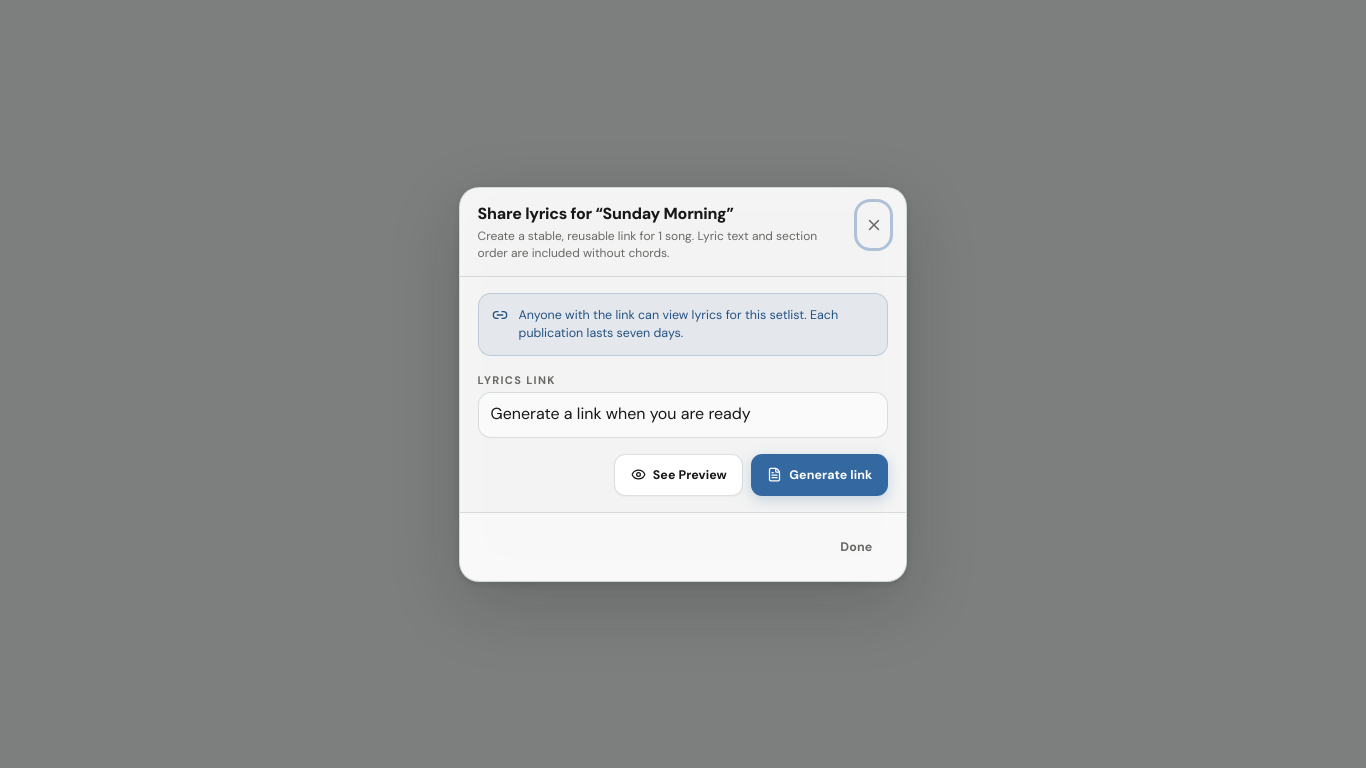
Scenario: ShareLyricsModal › renders See Preview button and opens preview modal with (Preview) header without generating a link
The width and height of the screenshot is (1366, 768).
// Click See Preview
Click the button "See Preview" at x=679, y=474, box [614,453,743,496]
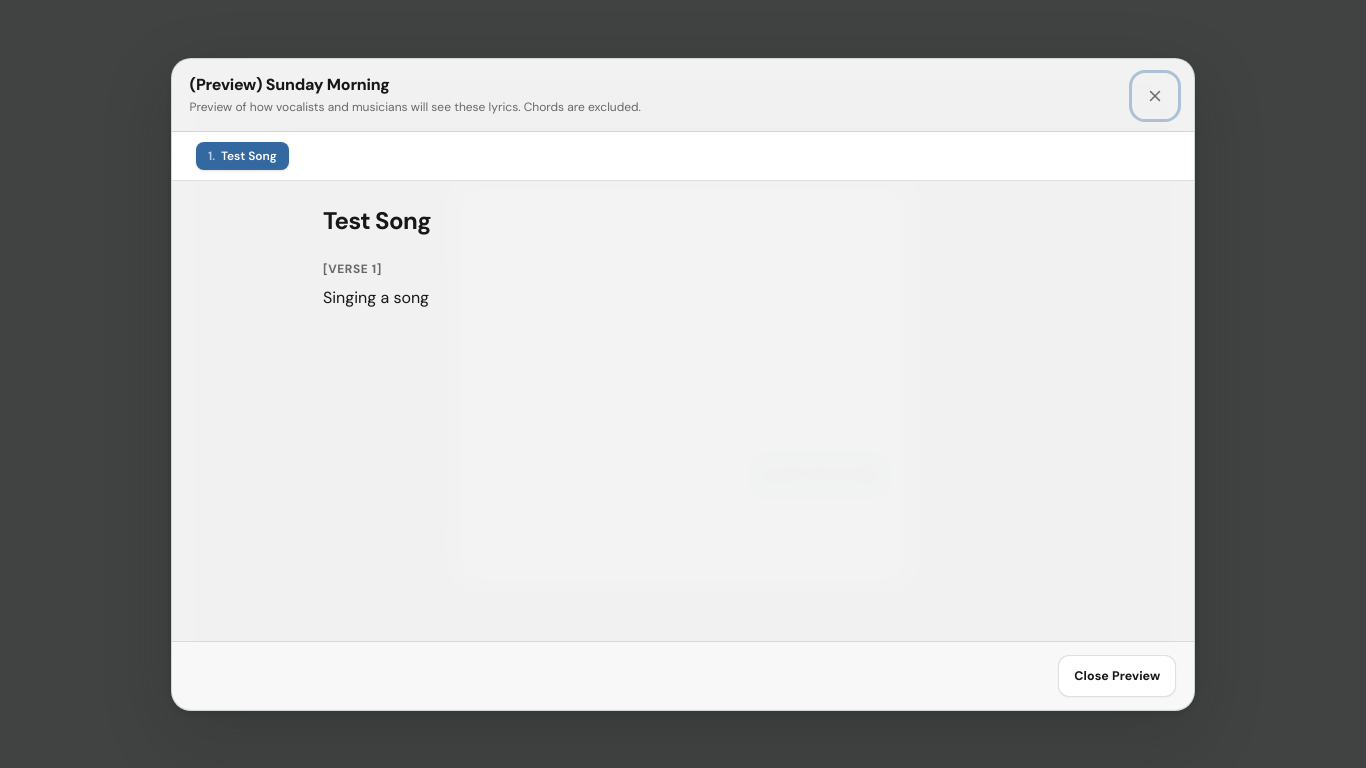
Result: the heading "(Preview) Sunday Morning" is shown at [190,74,390,95]
Result: the text "Singing a song" is shown at [323,287,429,308]
Click the button "Close Preview" at x=1117, y=675, box [1058,654,1176,697]
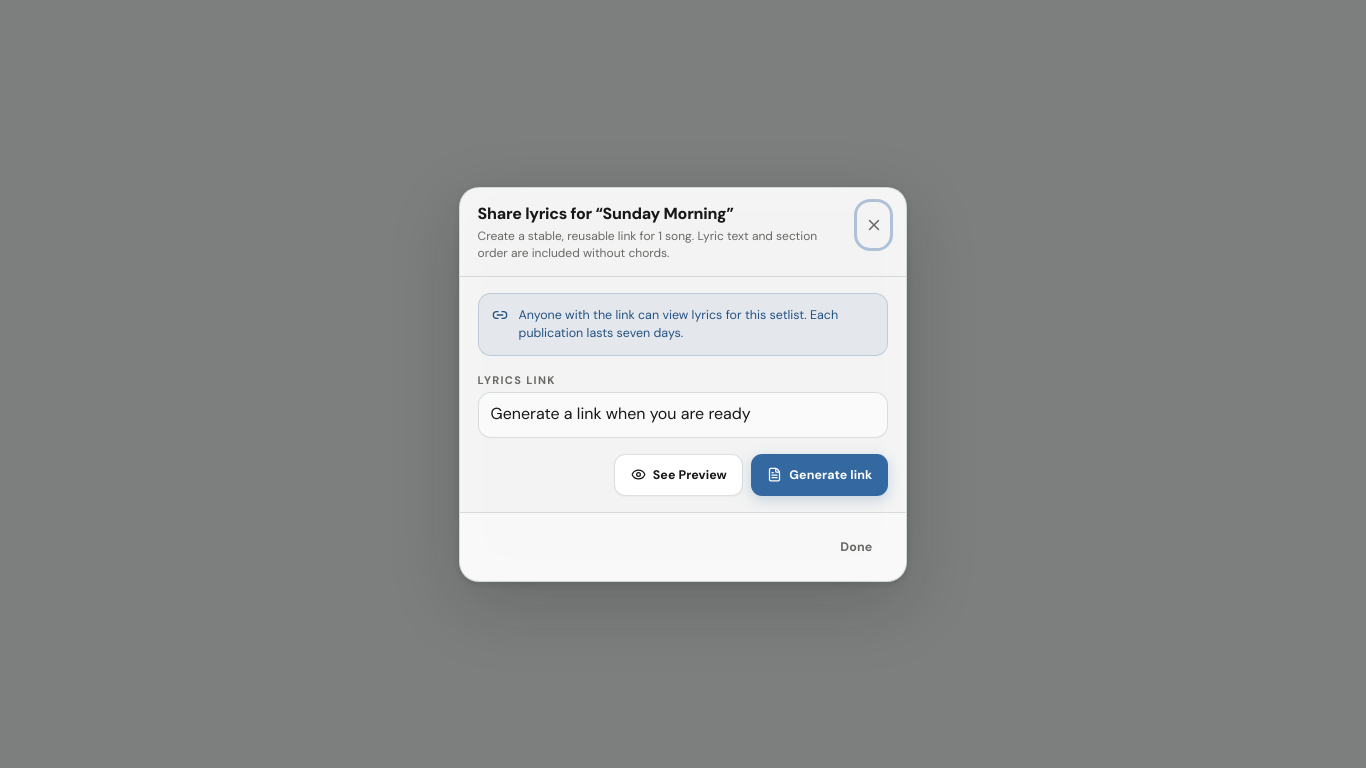
Result: the heading "(Preview) Sunday Morning" is gone
